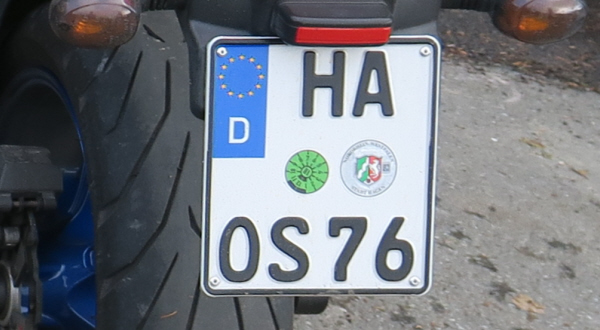license_plate: (201, 35, 441, 296)
